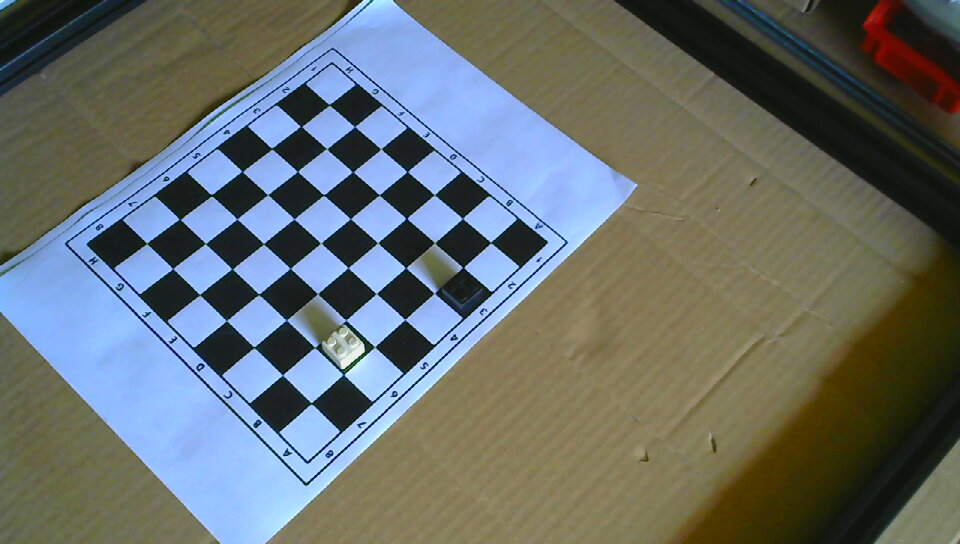bp: (441, 268, 486, 310)
wp: (319, 321, 367, 369)
